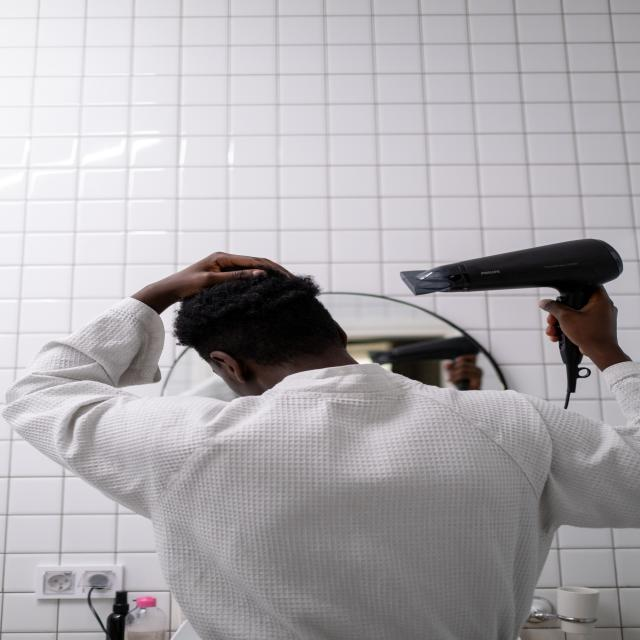dryer: (397, 237, 626, 393), (368, 332, 486, 393)
